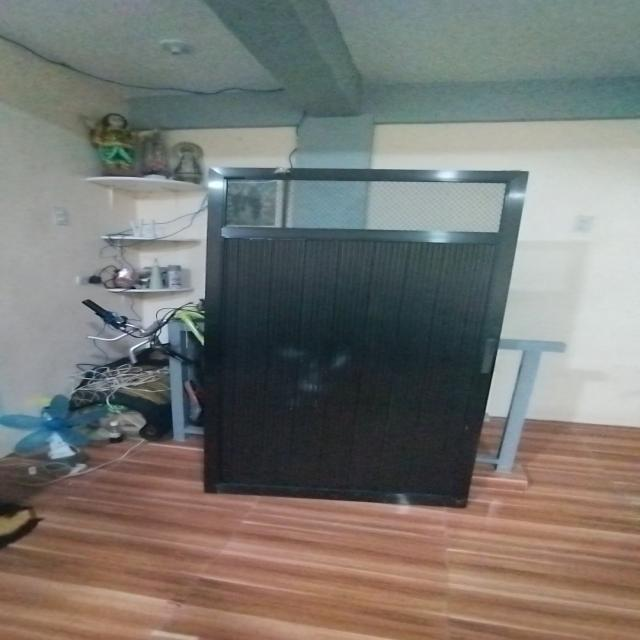door: (199, 158, 524, 509)
